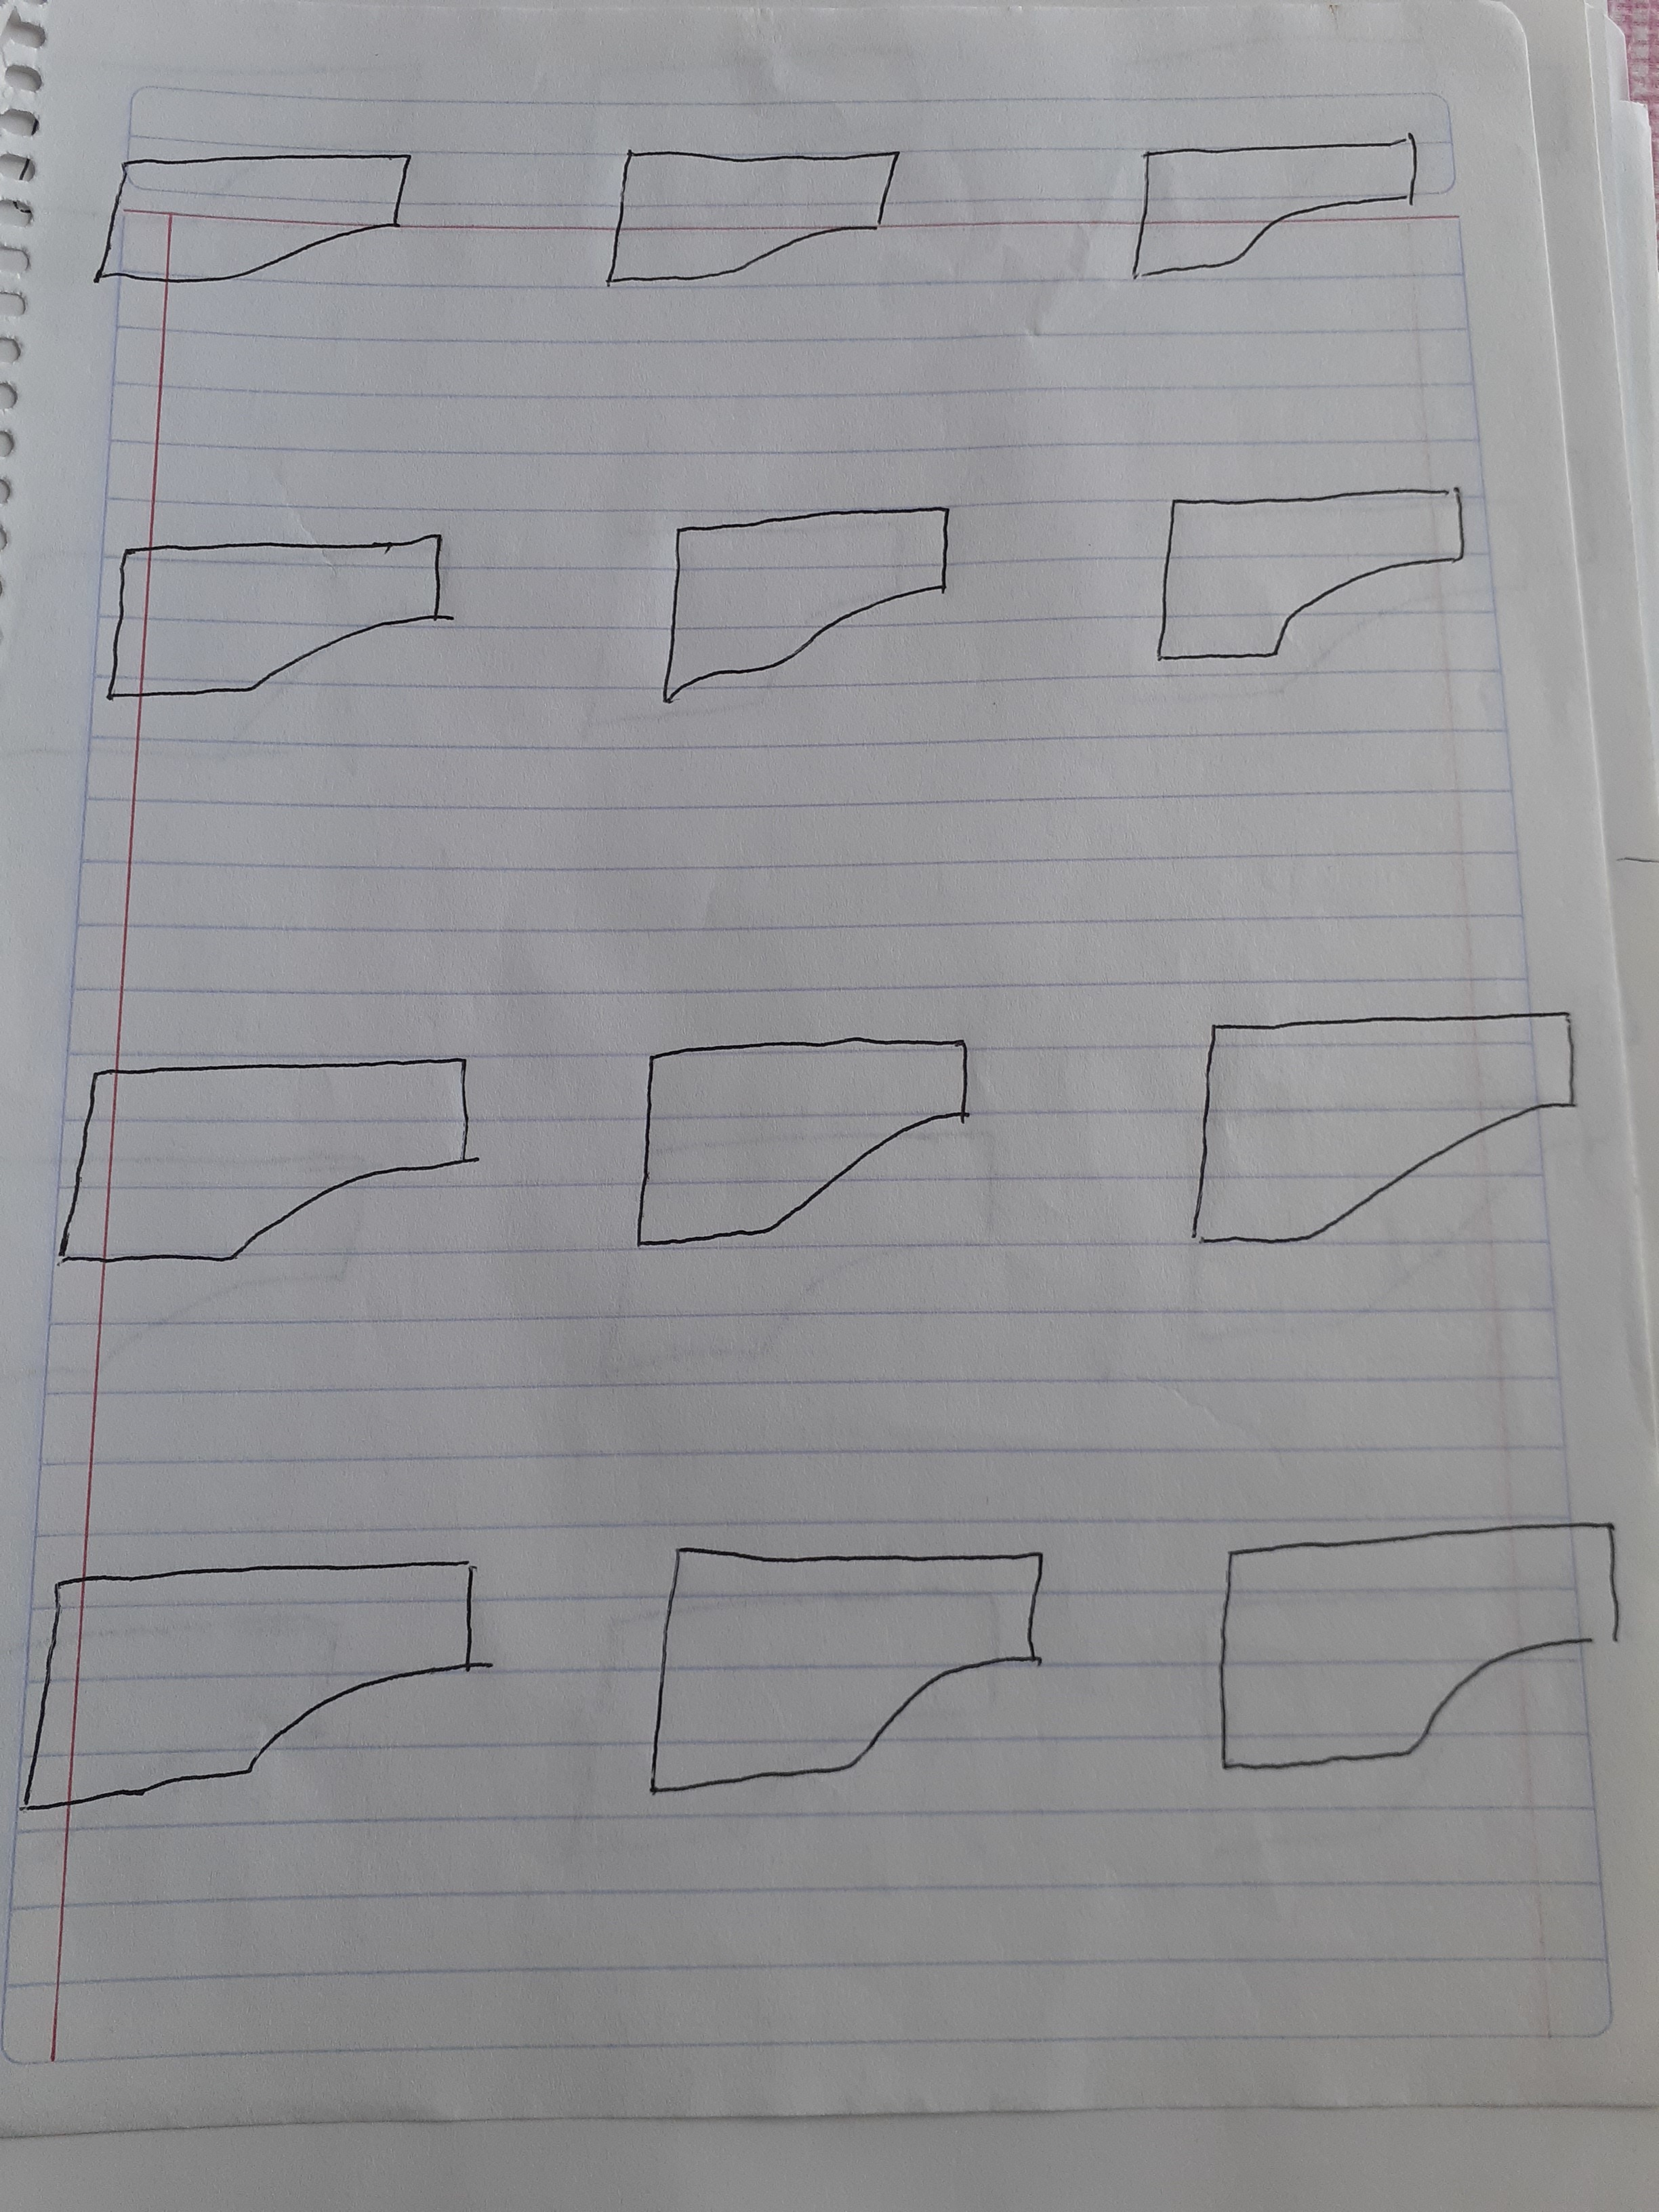print: (3, 1496, 526, 1844), (610, 1493, 1079, 1872), (1173, 960, 1610, 1336), (1180, 1496, 1650, 1824), (42, 1017, 491, 1343), (631, 963, 1018, 1339), (620, 472, 983, 766), (1147, 458, 1509, 712), (92, 510, 491, 737), (68, 141, 458, 354), (1105, 96, 1460, 314), (598, 110, 918, 324)
